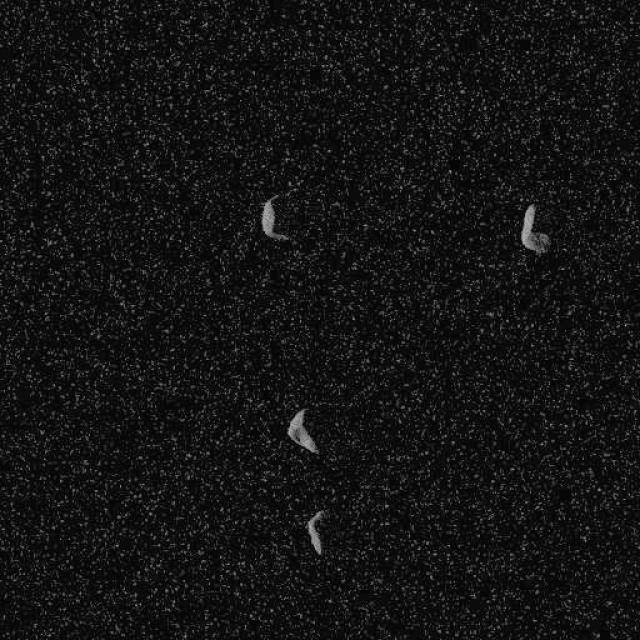D2: (519, 202, 550, 254), (286, 407, 319, 455), (260, 192, 290, 242), (305, 509, 326, 555)
